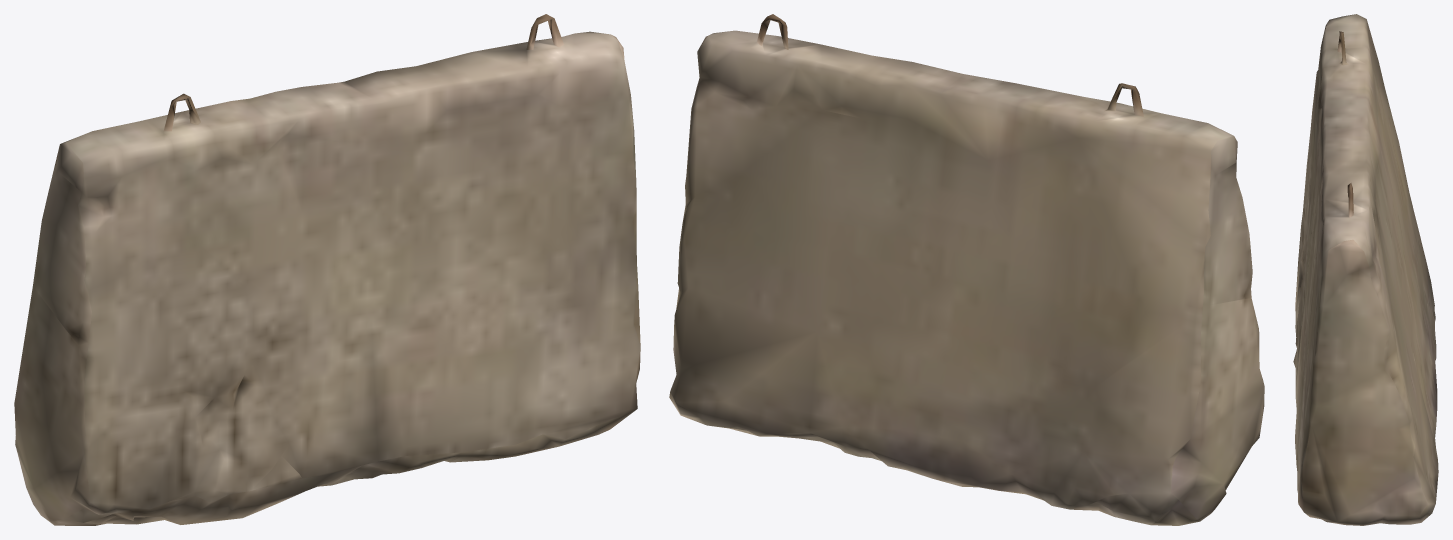
Rendered from separateur_beton_bas_lod1.glb.
3 views of the same model, side by side, from view 1: azimuth 30°, elevation 25°; view 2: azimuth 150°, elevation 25°; view 3: azimuth 270°, elevation 25° (orthographic). The views are drawn at different scales.
Visible parts, largest first — view 1: concrete_road_barrier_02; view 2: concrete_road_barrier_02; view 3: concrete_road_barrier_02.
Boxes of the visible parts, left/top/right/bottom form: concrete_road_barrier_02: left=14, top=14, right=640, bottom=525; concrete_road_barrier_02: left=669, top=14, right=1264, bottom=525; concrete_road_barrier_02: left=1293, top=14, right=1438, bottom=525.
Bounding box in the file's own units: 1.56 × 1.11 × 0.4414.
1 material, 1 textured.
